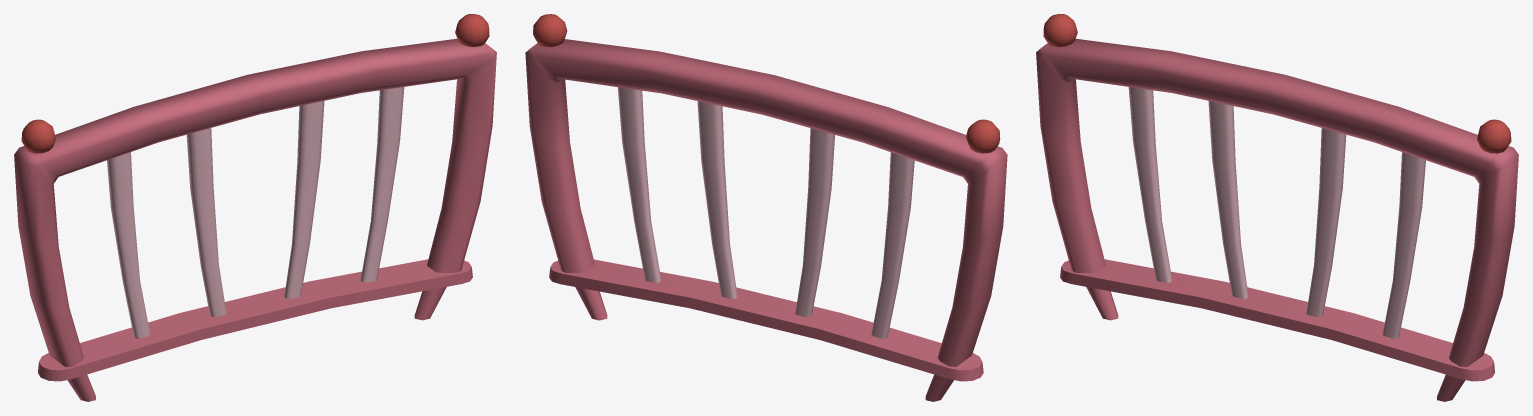
Rendered from RailSmall_Mesh.FBX.
3 renders of one model, left to right at view 1: azimuth 30°, elevation 25°; view 2: azimuth 150°, elevation 25°; view 3: azimuth 330°, elevation 25°, orthographic.
Visible parts, largest first — view 1: Rail_Small_Mesh; view 2: Rail_Small_Mesh; view 3: Rail_Small_Mesh.
Part boxes in pixels (left/top/right/bottom): Rail_Small_Mesh: left=14, top=14, right=496, bottom=401; Rail_Small_Mesh: left=525, top=14, right=1007, bottom=401; Rail_Small_Mesh: left=1036, top=14, right=1518, bottom=401.
Bounding box in the file's own units: 666 × 394 × 55.08.
